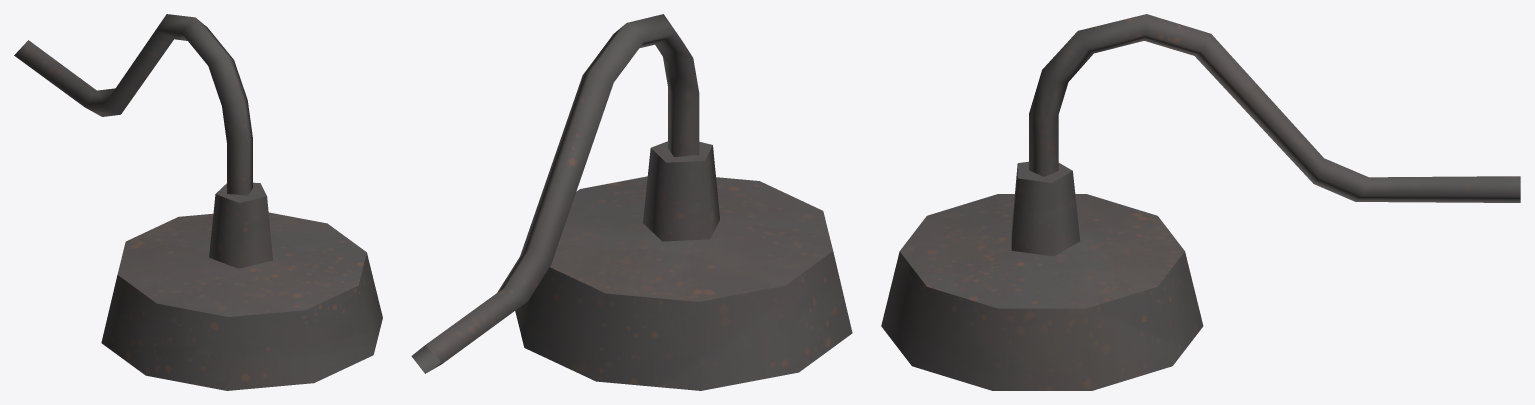
File: prop-hanging-wall-light.glb
3 renders of one model, left to right at view 1: azimuth 30°, elevation 25°; view 2: azimuth 150°, elevation 25°; view 3: azimuth 270°, elevation 25°, orthographic. The views are drawn at different scales.
Visible parts, largest first — view 1: prop-hanging-wall-light; view 2: prop-hanging-wall-light; view 3: prop-hanging-wall-light.
Boxes of the visible parts, box(x1,y1,x2,y2) form: prop-hanging-wall-light: box(14, 14, 382, 390); prop-hanging-wall-light: box(411, 14, 852, 390); prop-hanging-wall-light: box(881, 14, 1520, 390).
Bounding box in the file's own units: 0.4918 × 0.6642 × 1.03.
2 materials, 1 textured.
